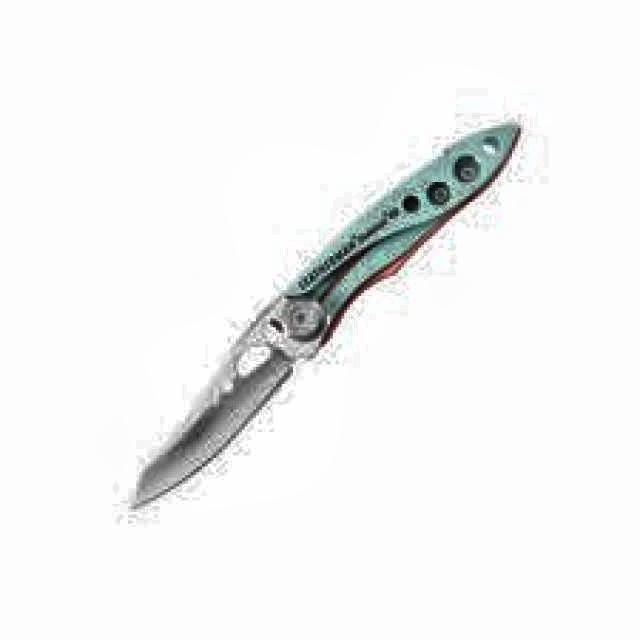knife: (126, 120, 528, 508)
